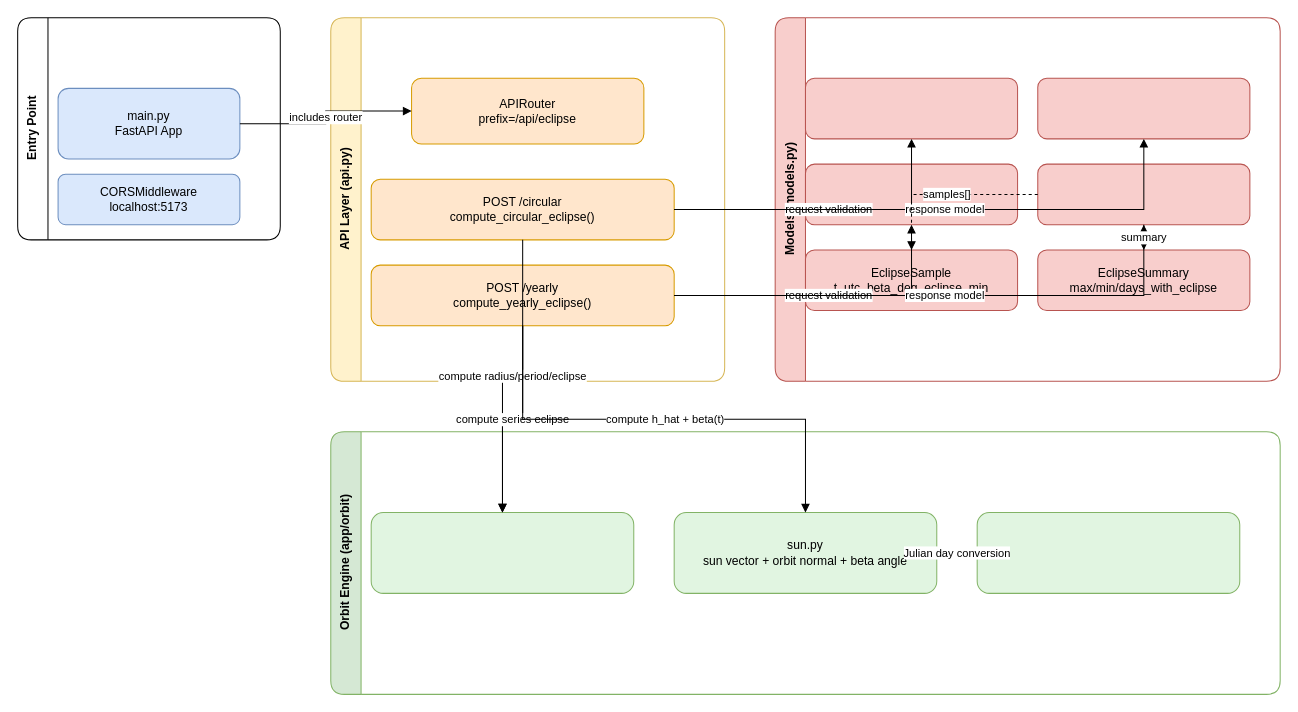
The diagram is 1298 pixels wide and 712 high, and some of its shapes have lost their labels. The shapes that lost their labels are listed below. From the top down, each one's box as (x1, y1, x2, y2) in pixels, then its label:
(804, 77, 1018, 139): CircularEclipseRequest altitude_km, beta_deg
(1037, 77, 1250, 139): CircularEclipseResponse radius, period, beta_crit, eclipse
(804, 163, 1018, 225): YearlyEclipseRequest alt, inc, raan, start, days, step
(1037, 163, 1250, 225): YearlyEclipseResponse params, samples[], summary
(370, 512, 634, 593): eclipse.py orbital period + eclipse duration math
(976, 512, 1240, 593): time.py ISO8601 + Julian Day utilities
